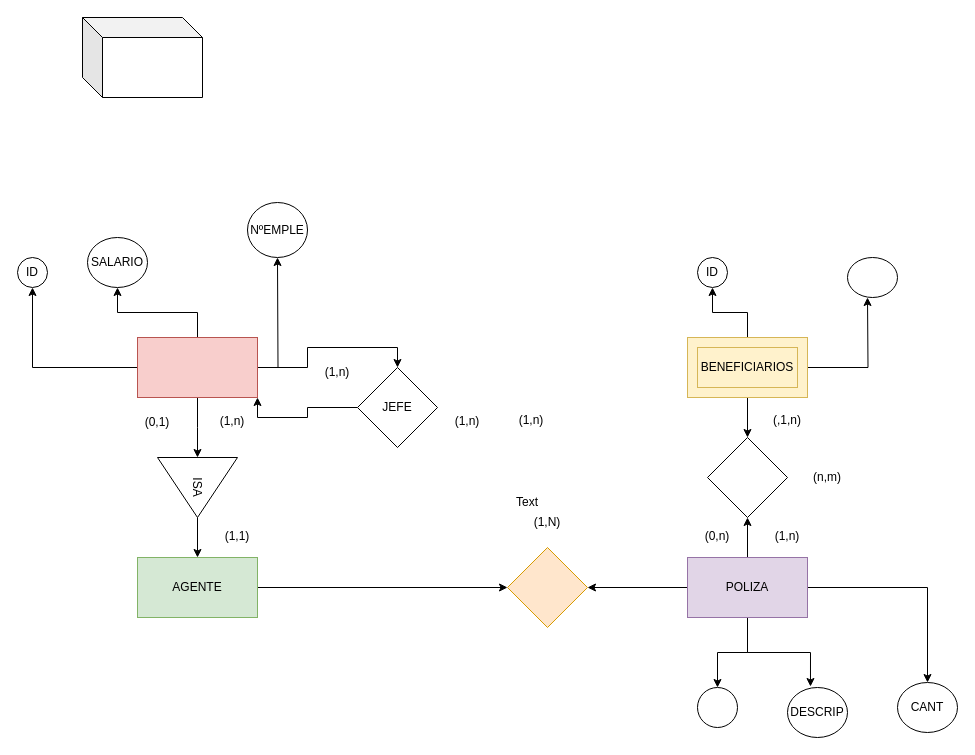
The diagram is 975 pixels wide and 755 high, and some of its shapes have lost their labels. The centre of each missing label's shape, as x and y in pixels:
ASEGURA: the point at 747,477
DIRECC: the point at 872,277
EMPLEADOS: the point at 197,367
empresa de transporte: the point at 142,57
Nº: the point at 717,707
VENDE: the point at 547,587
